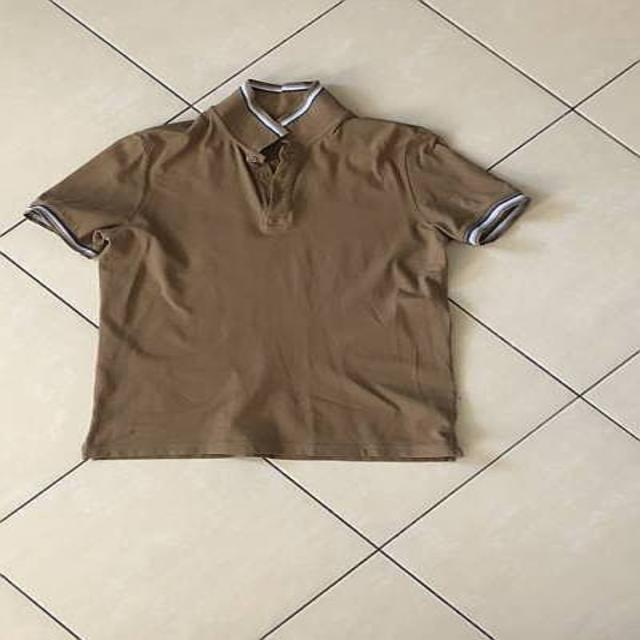T_SHIRT: (14, 74, 540, 476)
